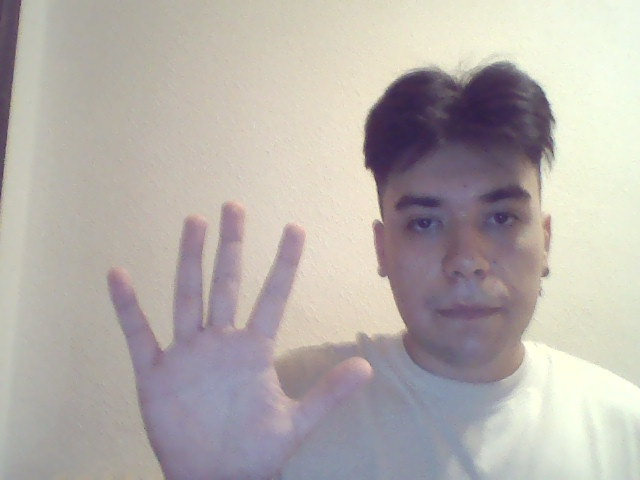Hola: (110, 193, 379, 480)
